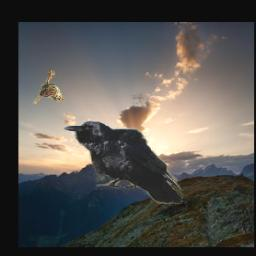Crow: (64, 121, 184, 205)
Sparrow: (33, 70, 65, 104)
